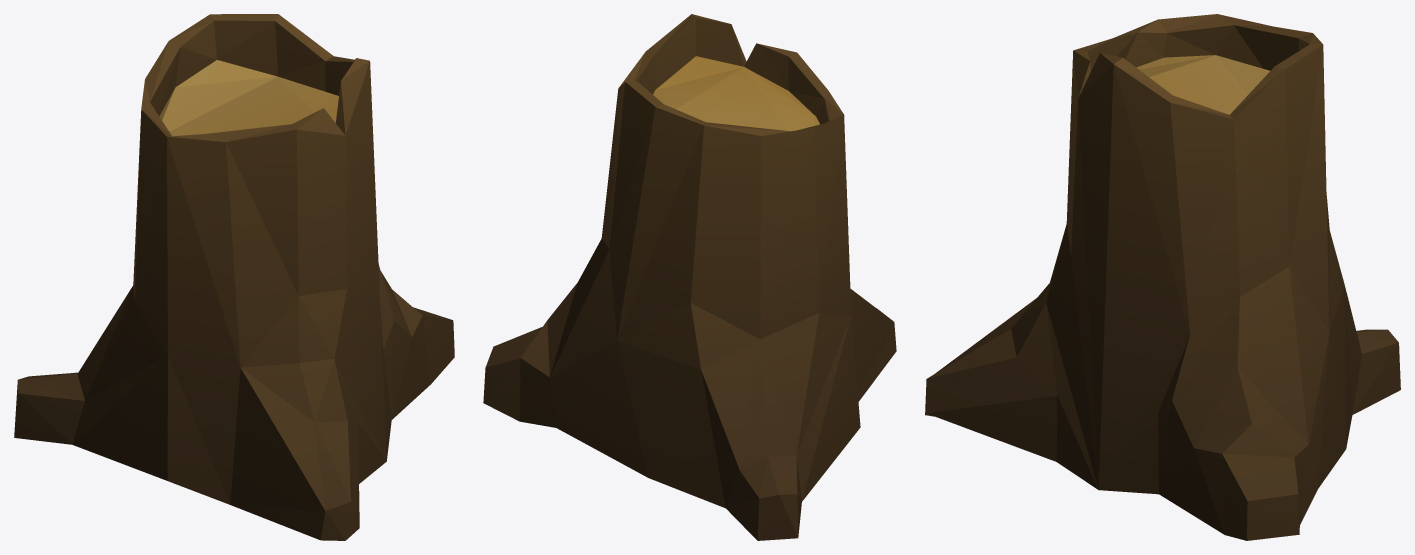
Rendered from Stump_02.fbx.
3 renders of one model, left to right at view 1: azimuth 30°, elevation 25°; view 2: azimuth 150°, elevation 25°; view 3: azimuth 270°, elevation 25°, orthographic. The views are drawn at different scales.
Parts seen in each view (by area): view 1: Stump_02; view 2: Stump_02; view 3: Stump_02.
Boxes of the visible parts, x1,y1,x2,y2 form: Stump_02: [14, 14, 454, 540]; Stump_02: [483, 14, 896, 540]; Stump_02: [925, 14, 1400, 540].
Bounding box in the file's own units: 0.7287 × 0.7482 × 0.7428.
